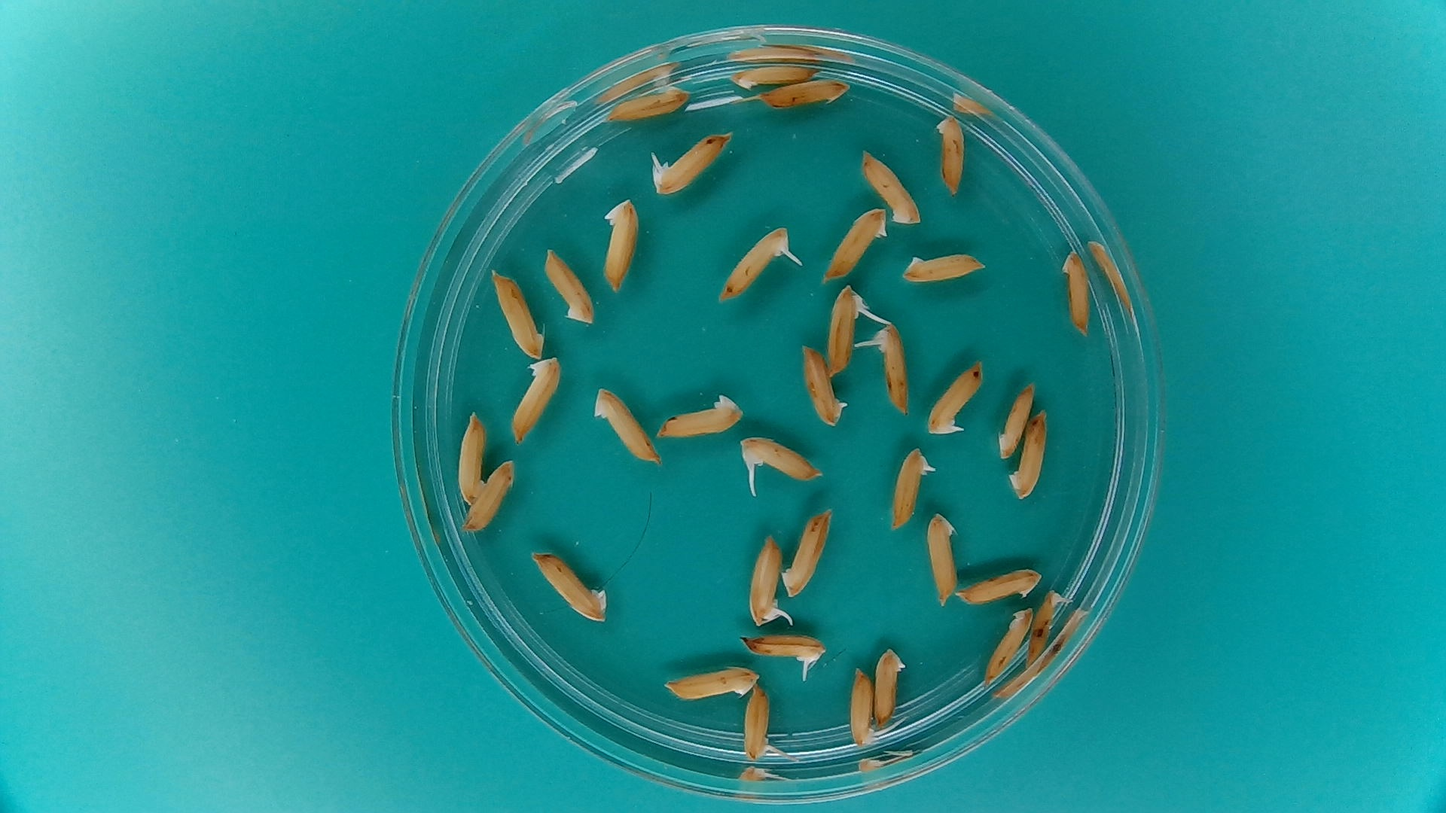no: (523, 544, 612, 625), (487, 264, 548, 361), (819, 203, 890, 285), (593, 387, 664, 468), (856, 146, 925, 227), (779, 504, 836, 601), (508, 352, 565, 448), (540, 242, 598, 327), (599, 191, 642, 297), (981, 604, 1034, 686), (462, 458, 517, 537), (659, 662, 759, 705), (798, 345, 849, 427), (953, 563, 1045, 607), (654, 395, 743, 440), (897, 246, 991, 288), (994, 374, 1039, 461), (923, 506, 961, 608), (603, 81, 694, 123), (1008, 410, 1048, 502), (454, 406, 489, 508), (844, 665, 885, 752), (932, 110, 969, 200), (760, 75, 852, 111), (871, 644, 910, 728), (1060, 244, 1091, 340), (726, 61, 815, 90)
yes: (716, 225, 792, 303), (923, 353, 987, 440), (652, 131, 732, 197), (736, 431, 818, 485), (822, 284, 868, 379), (746, 530, 787, 626), (873, 320, 913, 413), (743, 635, 831, 671), (890, 448, 929, 528), (1029, 587, 1066, 669), (742, 680, 777, 763)
